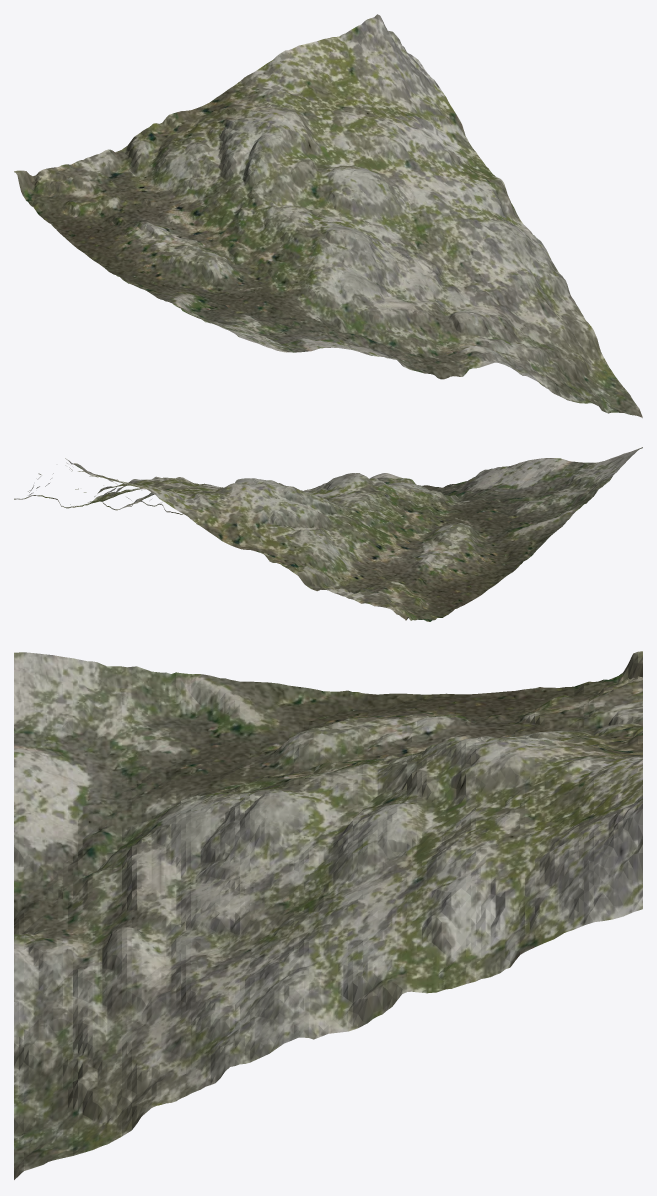
3 renders of one model, top to bottom at view 1: azimuth 30°, elevation 25°; view 2: azimuth 150°, elevation 25°; view 3: azimuth 270°, elevation 25°, orthographic. The views are drawn at different scales.
Bounding box in the file's own units: 500 × 296 × 481.
Materials: 1 (1 with a texture image).
